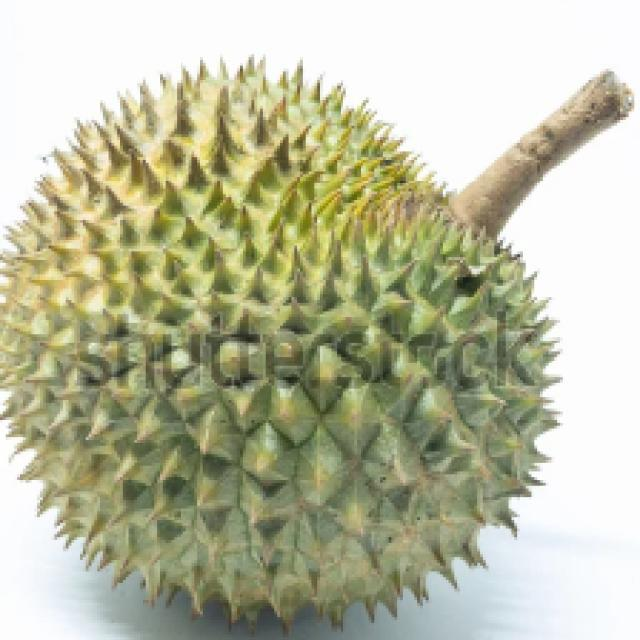d175: (15, 46, 552, 623)
